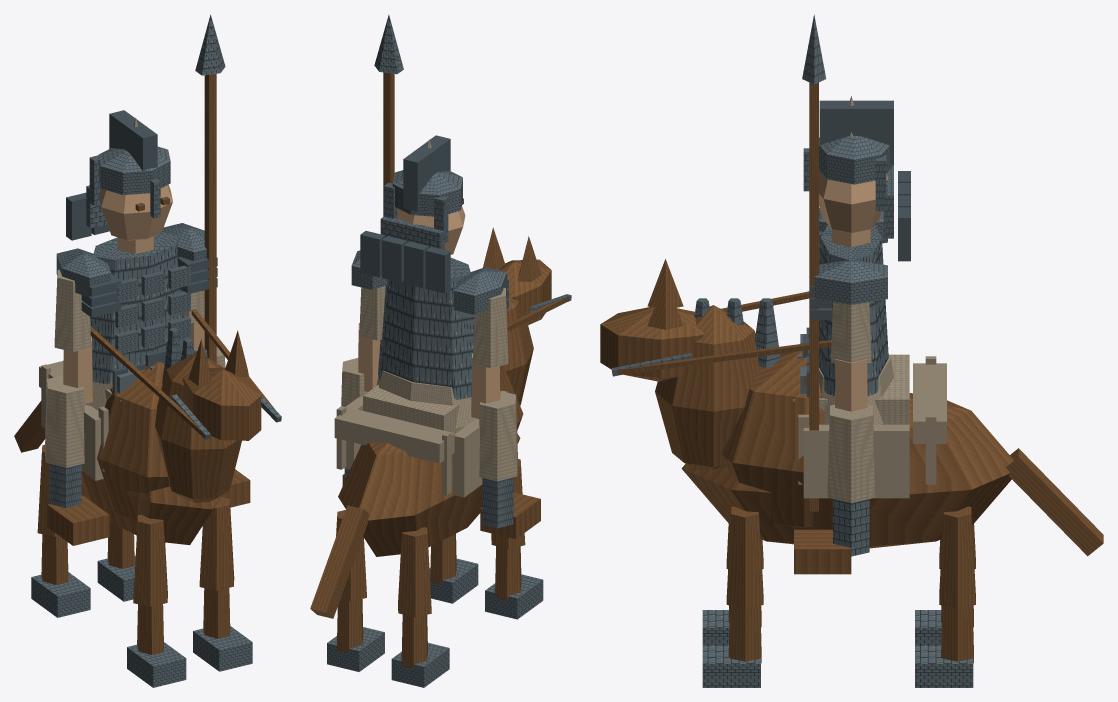
The model's file is unit-CAVALRY-lod0.glb.
3 renders of one model, left to right at view 1: azimuth 30°, elevation 25°; view 2: azimuth 150°, elevation 25°; view 3: azimuth 270°, elevation 25°, orthographic. The views are drawn at different scales.
Size of the model in its own units: 0.218 by 0.705 by 0.4738.
1 material, 1 textured.
